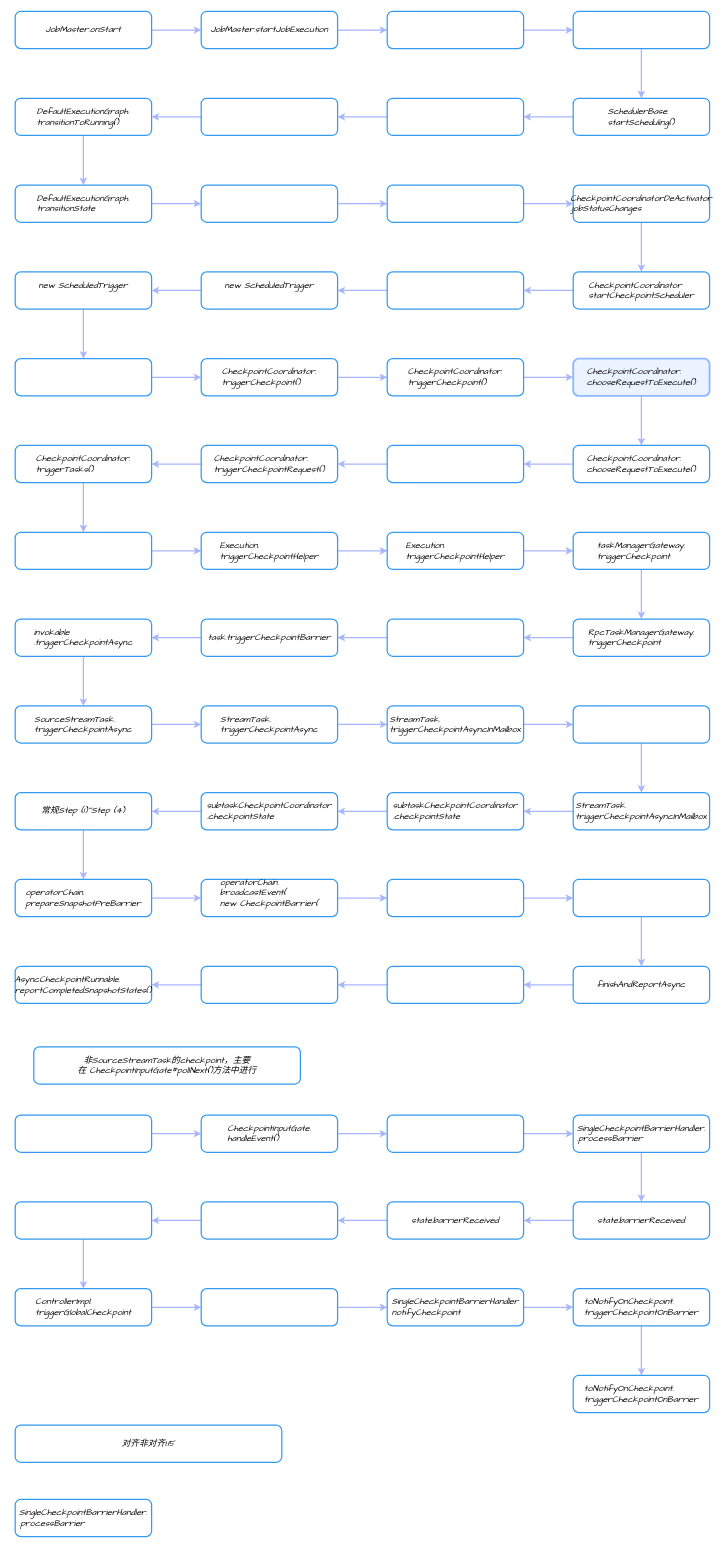
The diagram is 723 pixels wide and 1548 high, and some of its shapes have lost their labels. The centre of each missing label's shape, as x and y in pixels:
"AbstractAlignedBarrierHandlerState . triggerGlobalCheckpoint" goes at point (83, 1220).
"AbstractAlignedBarrierHandlerState .barrierReceived" goes at point (269, 1220).
"AsyncCheckpointRunnable.run()" goes at point (269, 984).
"barrierHandler.processBarrier" goes at point (455, 1133).
"channelStateWriter.finishOutput" goes at point (455, 898).
"CheckpointCoordinator . scheduleTriggerWithDelay" goes at point (455, 290).
"CheckpointCoordinator. startTriggeringCheckpoint ()" goes at point (455, 464).
"CheckpointInputGate#pollNext()" goes at point (83, 1133).
"DefaultScheduler . notifyJobStatusChange" goes at point (269, 203).
"DefaultScheduler . transitionToRunning ()" goes at point (269, 116).
"execution. triggerSynchronousSavepoint/ 或者 execution.triggerCheckpoint" goes at point (83, 550).
"JobMaster. startScheduling" goes at point (455, 30).
"listener.jobStatusChanges" goes at point (455, 203).
"new AsyncCheckpointRunnable" goes at point (455, 984).
"ScheduledTrigger.run" goes at point (83, 377).
"SchedulerBase. startSchedulingInternal()" goes at point (455, 116).
"schedulerNG.startScheduling()" goes at point (641, 30).
"SingleCheckpointBarrierHandler triggerCheckpoint" goes at point (269, 1307).
"StreamTask . performCheckpoint" goes at point (641, 724).
"takeSnapshotSync" goes at point (641, 898).
"TaskExecutor . triggerCheckpoint" goes at point (455, 637).
